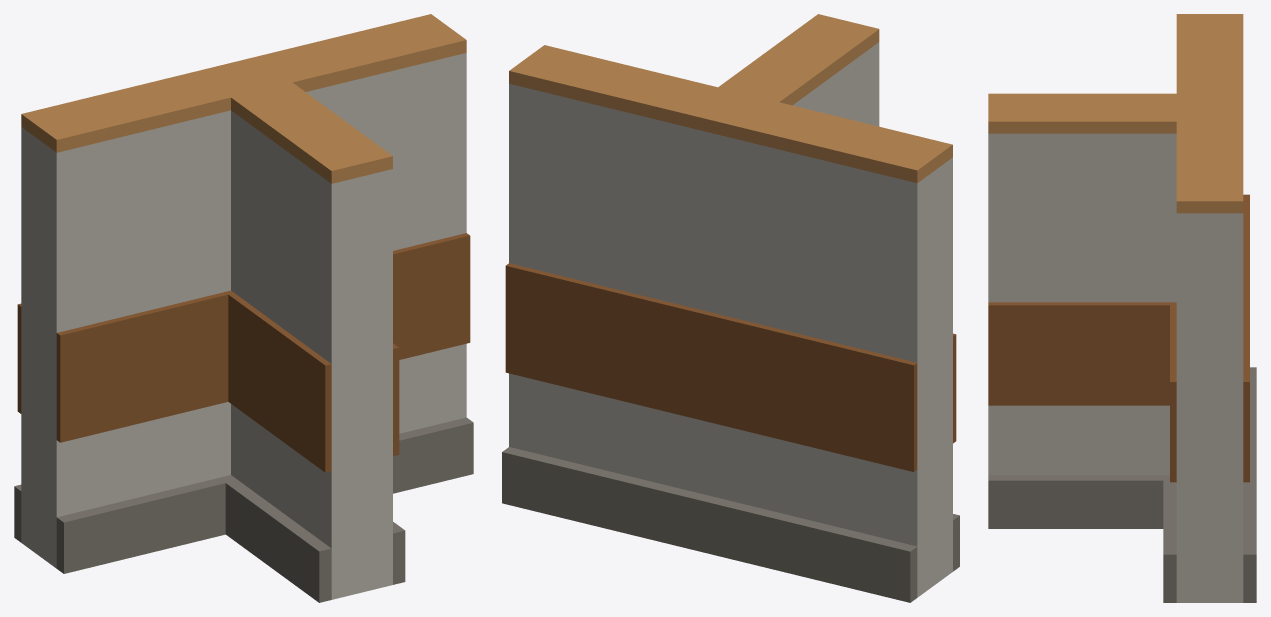
File: partition-full-tee.glb
3 renders of one model, left to right at view 1: azimuth 30°, elevation 25°; view 2: azimuth 150°, elevation 25°; view 3: azimuth 270°, elevation 25°, orthographic. The views are drawn at different scales.
Visible parts, largest first — view 1: partition-full-tee; view 2: partition-full-tee; view 3: partition-full-tee.
Boxes of the visible parts, box(x1,y1,x2,y2) form: partition-full-tee: box(14, 14, 473, 602); partition-full-tee: box(502, 14, 959, 602); partition-full-tee: box(988, 14, 1256, 602).
Size of the model in its own units: 1 by 1 by 0.605.
Materials: 1 (1 with a texture image).
